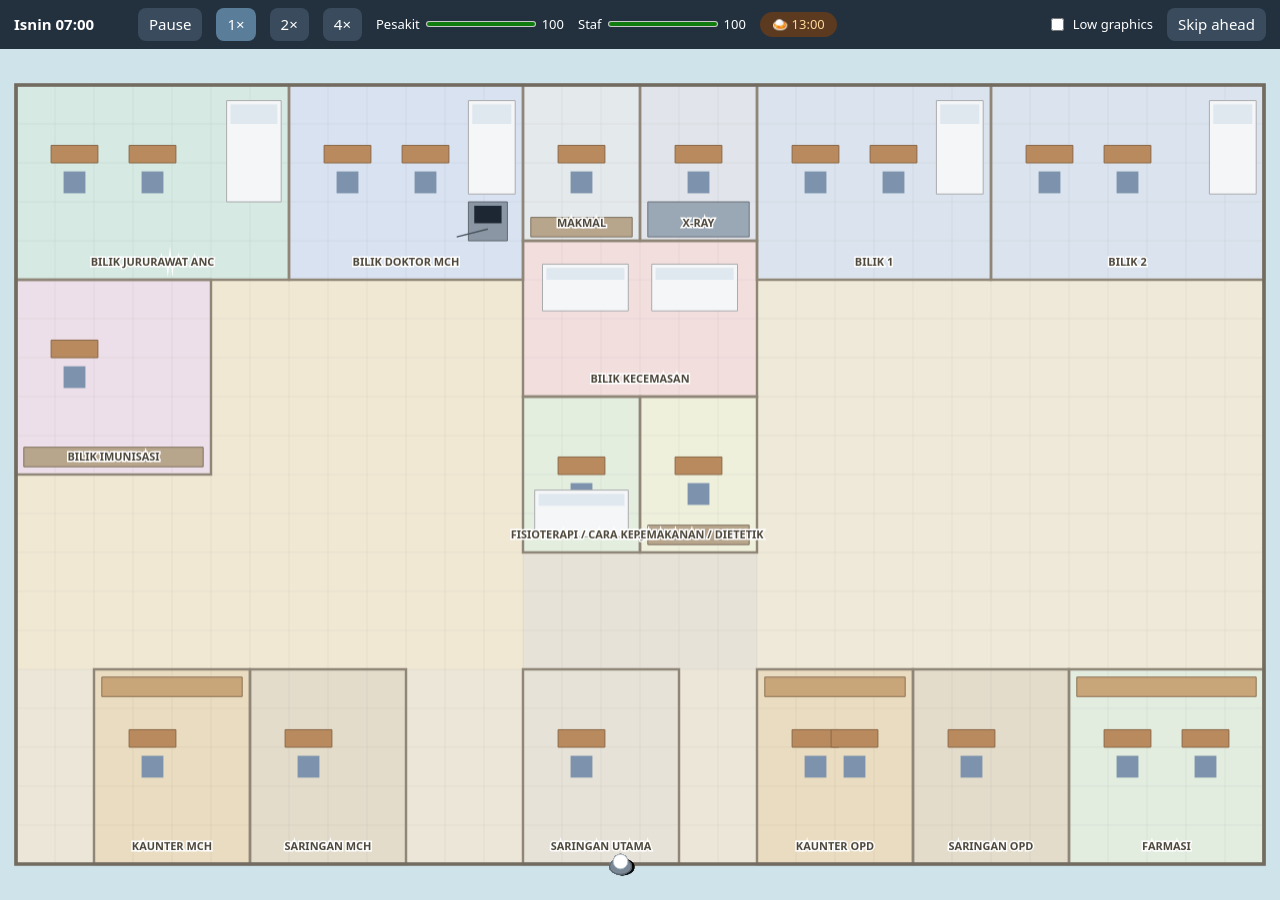
Test case: shortcuts are off while a popup is open, and when typing in a control
Later steps or results of the test are not shown.
Click the button "Skip ahead": (1216, 24) [1167, 8, 1266, 40]
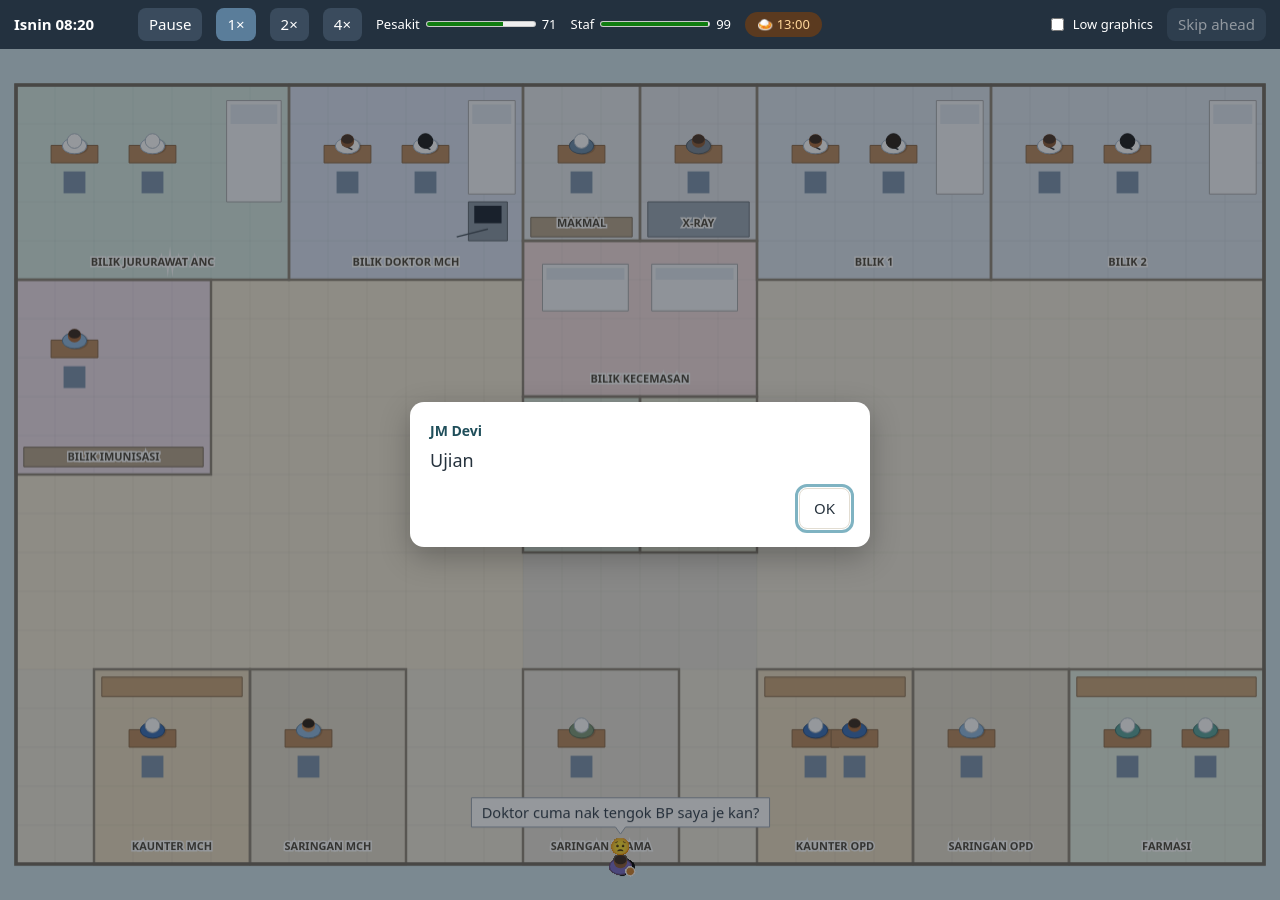
expect the dialog is shown: met, box [410, 402, 870, 546]
